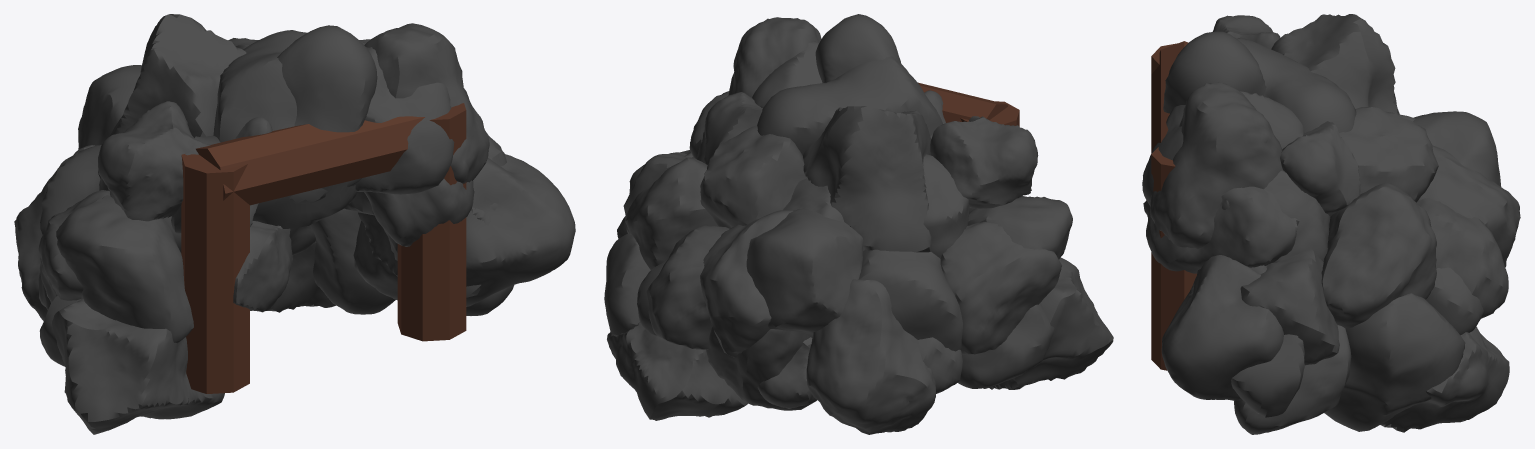
The model's file is IronMine.fbx.
3 views of the same model, side by side, from view 1: azimuth 30°, elevation 25°; view 2: azimuth 150°, elevation 25°; view 3: azimuth 270°, elevation 25° (orthographic). The views are drawn at different scales.
Parts seen in each view (by area): view 1: Cylinder.005, rock.007, rock.008, rock.039, Cylinder.007, rock.022, Cylinder.006, rock.018, rock.012, rock.033, rock.023, rock.027 (+13 smaller); view 2: rock.018, rock.016, rock.021, rock.010, rock.023, rock.037, rock.029, rock.012, rock.026, rock.015, rock.007, rock.031 (+17 smaller); view 3: rock.033, rock.036, rock.035, rock.039, rock.018, rock.032, rock.041, rock.029, rock.037, rock.031, rock.023, rock.028 (+11 smaller).
Boxes of the visible parts, x1,y1,x2,y2 form: Cylinder.005: [181, 154, 249, 393]; rock.007: [52, 299, 224, 434]; rock.008: [56, 195, 193, 343]; rock.039: [466, 154, 575, 306]; Cylinder.007: [196, 116, 424, 205]; rock.022: [252, 25, 377, 228]; Cylinder.006: [397, 103, 466, 341]; rock.018: [98, 14, 246, 178]; rock.012: [98, 101, 210, 221]; rock.033: [364, 23, 489, 183]; rock.023: [213, 30, 361, 203]; rock.027: [355, 45, 454, 194]; rock.018: [803, 106, 931, 252]; rock.016: [806, 279, 936, 434]; rock.021: [746, 209, 863, 337]; rock.010: [940, 222, 1061, 354]; rock.023: [757, 56, 942, 155]; rock.037: [607, 322, 748, 420]; rock.029: [700, 125, 806, 228]; rock.012: [930, 116, 1038, 208]; rock.026: [700, 210, 793, 357]; rock.015: [858, 249, 962, 351]; rock.007: [983, 257, 1113, 389]; rock.031: [646, 225, 729, 349]; rock.033: [1150, 82, 1282, 248]; rock.036: [1321, 182, 1436, 328]; rock.035: [1324, 293, 1465, 431]; rock.039: [1161, 255, 1283, 400]; rock.018: [1271, 14, 1399, 114]; rock.032: [1146, 186, 1299, 273]; rock.041: [1240, 248, 1339, 365]; rock.029: [1339, 107, 1438, 202]; rock.037: [1380, 326, 1509, 432]; rock.031: [1416, 198, 1508, 318]; rock.023: [1236, 37, 1356, 133]; rock.028: [1280, 121, 1360, 216].
Size of the model in its own units: 4.66 by 3.33 by 3.26.
